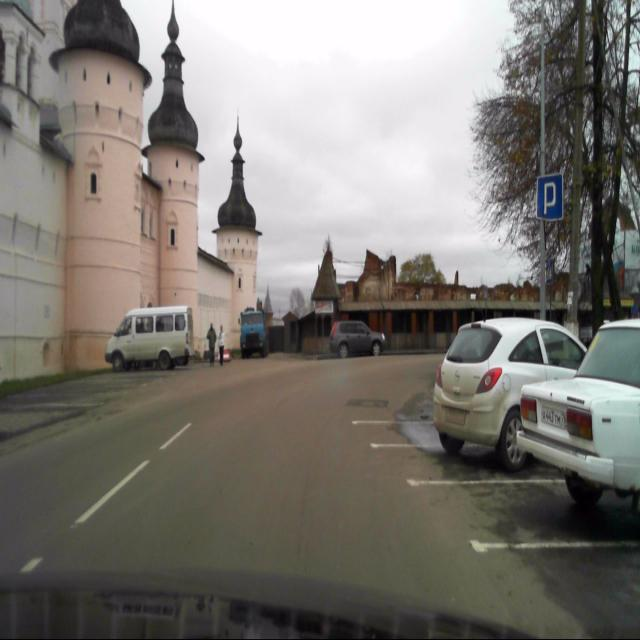road sign: (537, 173, 562, 221)
